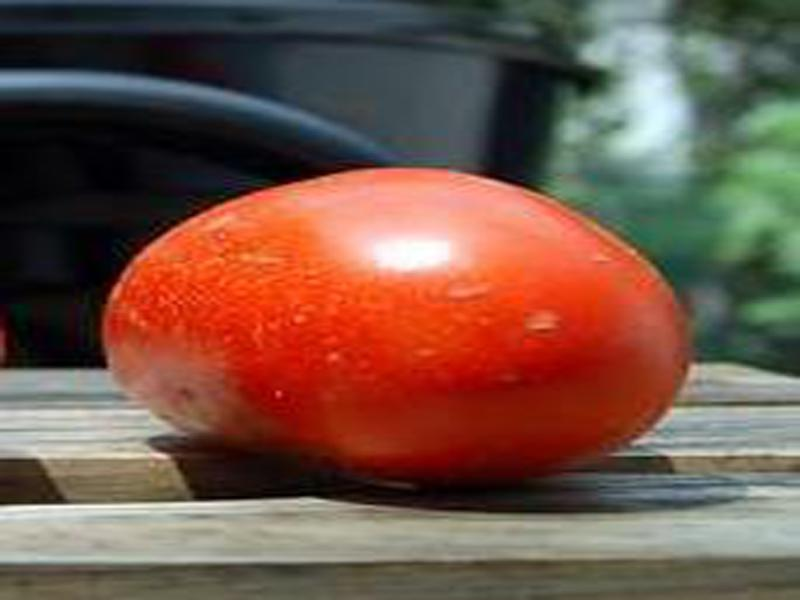Tomato: (103, 166, 692, 478)
